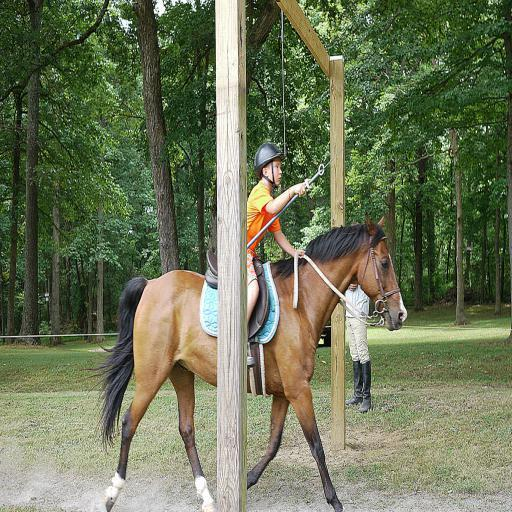horse: (82, 208, 408, 512)
